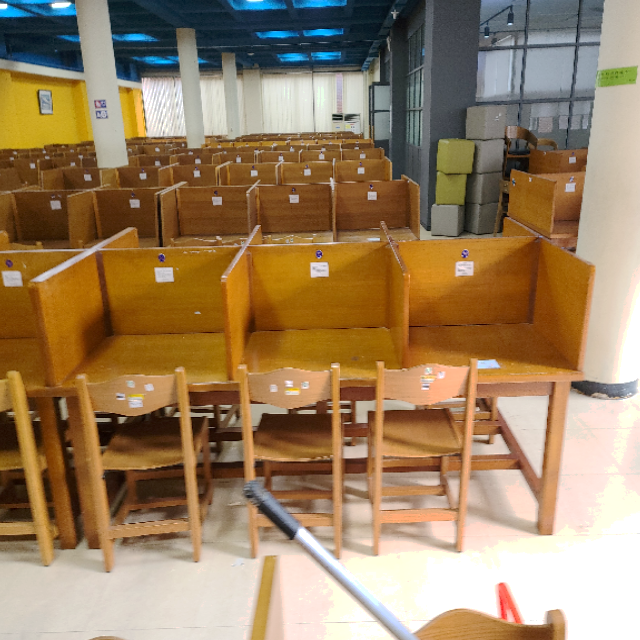empty: (39, 240, 227, 461), (231, 233, 408, 451), (415, 225, 581, 456)
